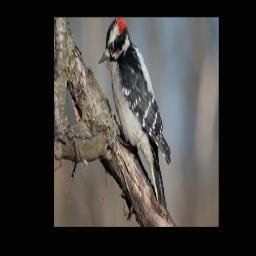Woodpecker: (96, 19, 171, 214)
